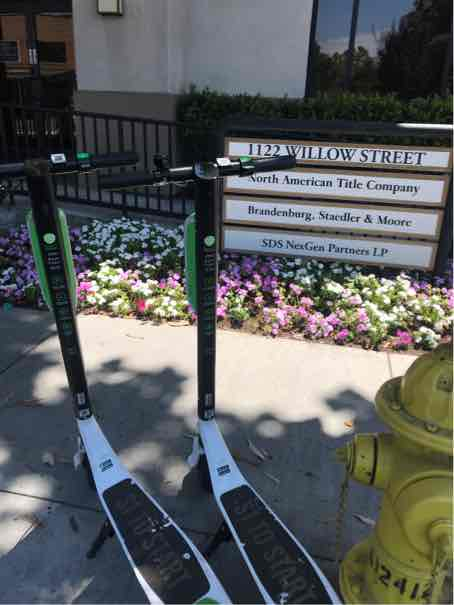scooter: (75, 124, 381, 605), (1, 115, 237, 603)
